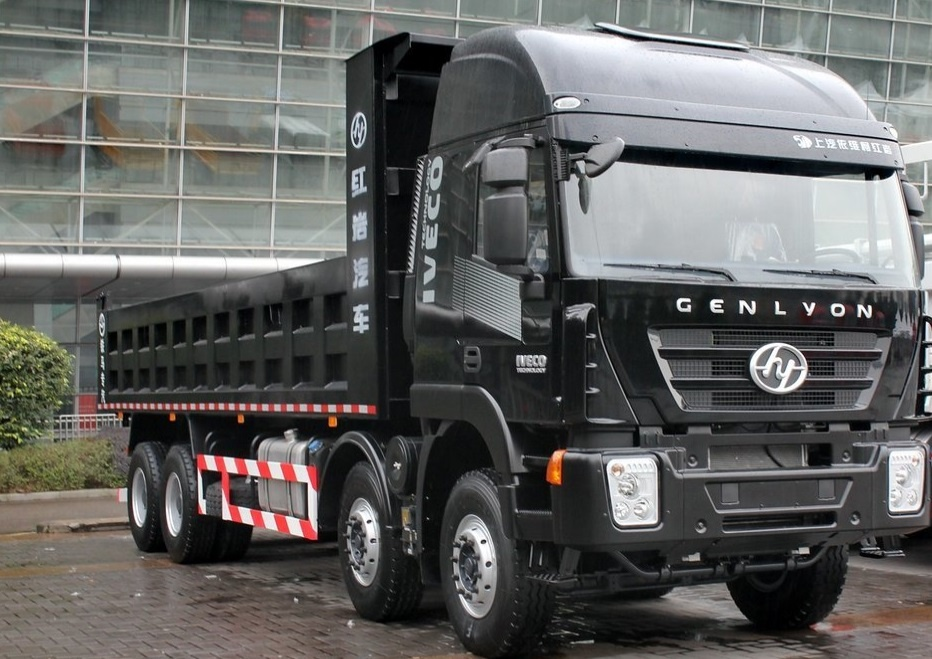heavy truck: (95, 50, 924, 635)
